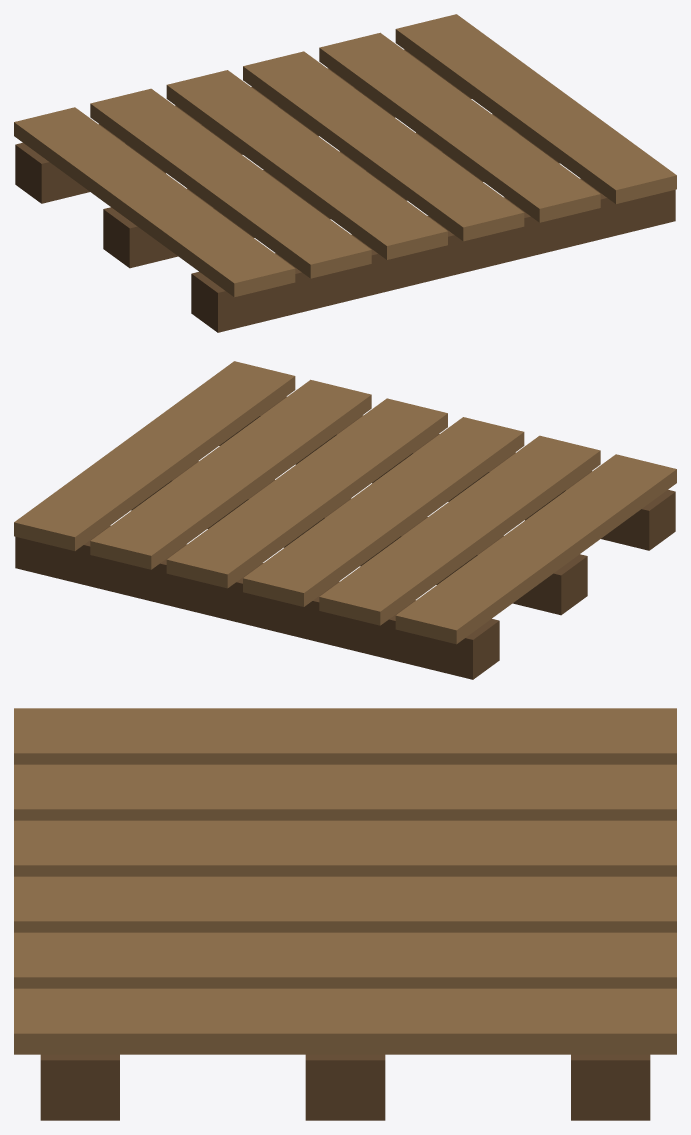
File: Env_Pallet.fbx
3 renders of one model, top to bottom at view 1: azimuth 30°, elevation 25°; view 2: azimuth 150°, elevation 25°; view 3: azimuth 270°, elevation 25°, orthographic. The views are drawn at different scales.
Parts seen in each view (by area): view 1: Env_Pallet; view 2: Env_Pallet; view 3: Env_Pallet.
Part boxes in pixels (box(x1,y1,x2,y2)): Env_Pallet: box(14, 14, 676, 332); Env_Pallet: box(14, 361, 676, 679); Env_Pallet: box(14, 708, 676, 1120).
Size of the model in its own units: 1.2 by 1 by 0.1355.
